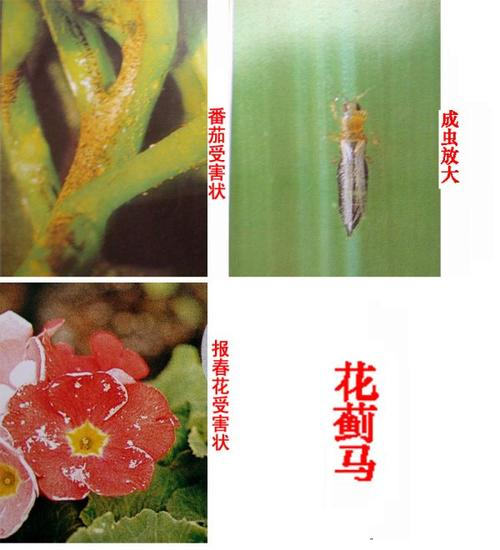Thripidae: (324, 85, 374, 238)
